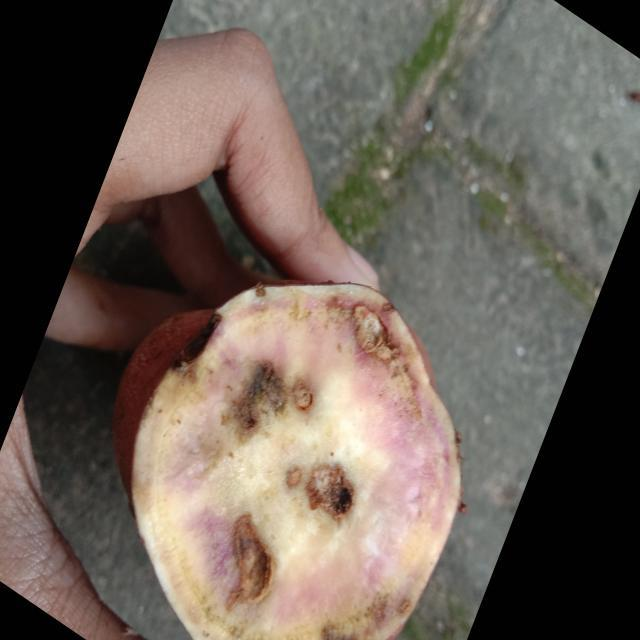Sick Sweet Potato_Tuber Rot: (132, 285, 461, 638)
